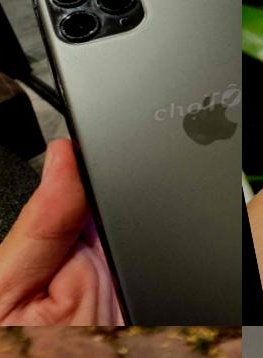scratch: (83, 144, 147, 320), (47, 0, 121, 46), (89, 0, 151, 26), (40, 0, 100, 13)
